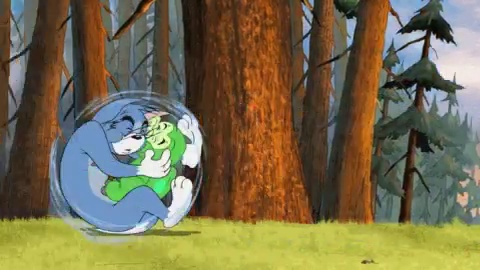tom: (54, 82, 207, 237)
